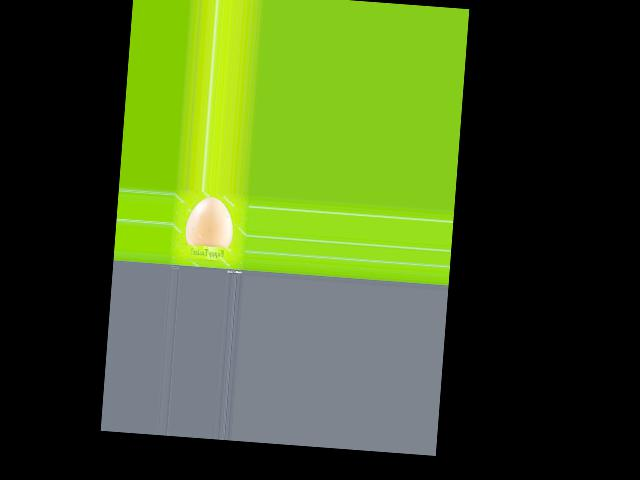egg: (184, 195, 234, 247)
